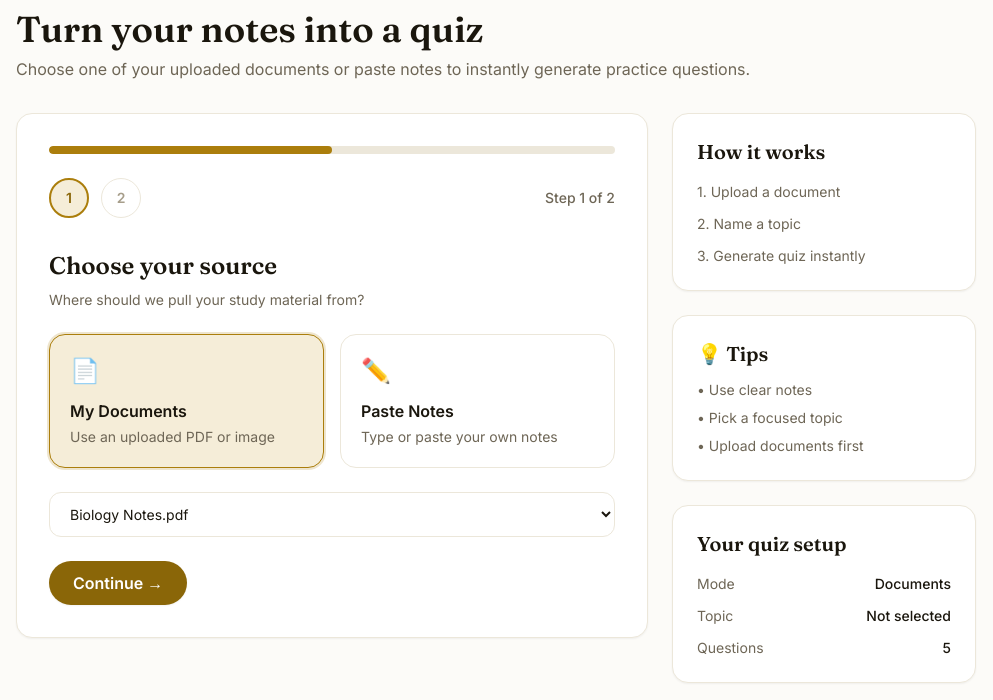
Scenario: QuizGenerator — Step 2: Configuration and generation › back button returns to step 1
Click the button "Continue →" at (118, 583), box [49,561,187,605]
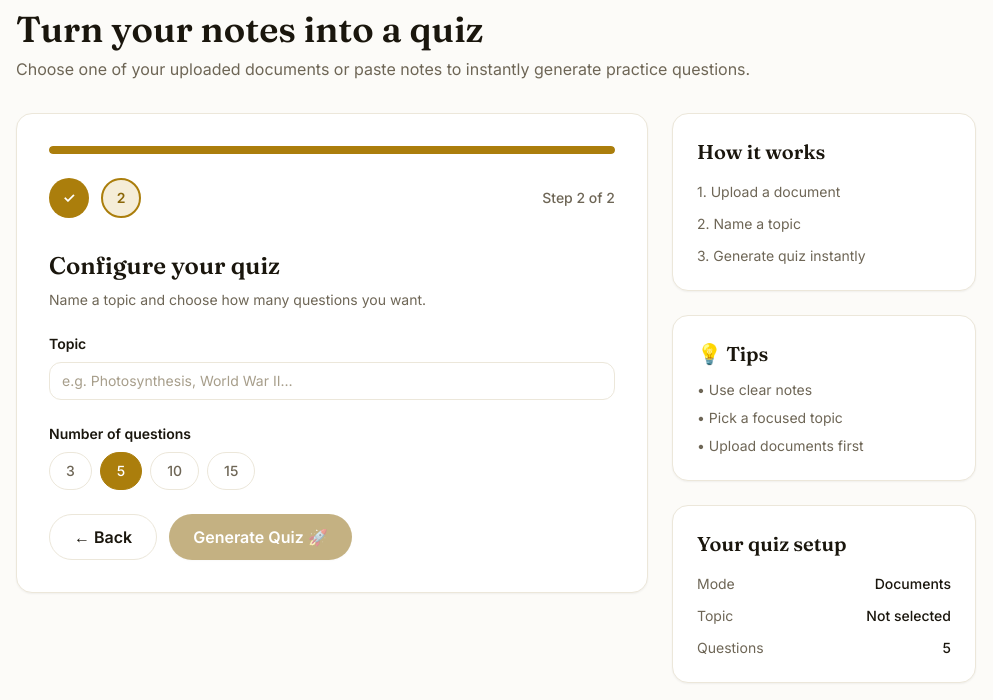
Click the button "← Back" at (103, 537), box [49,514,157,560]
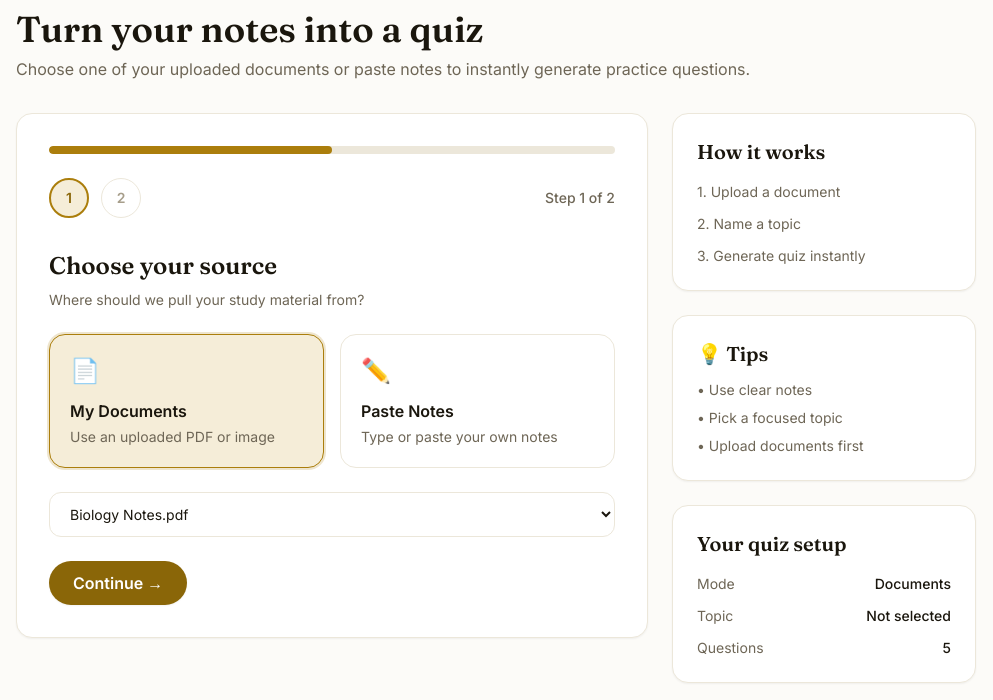
Check: the heading "Choose your source" is shown, box [49,251,277,280]
